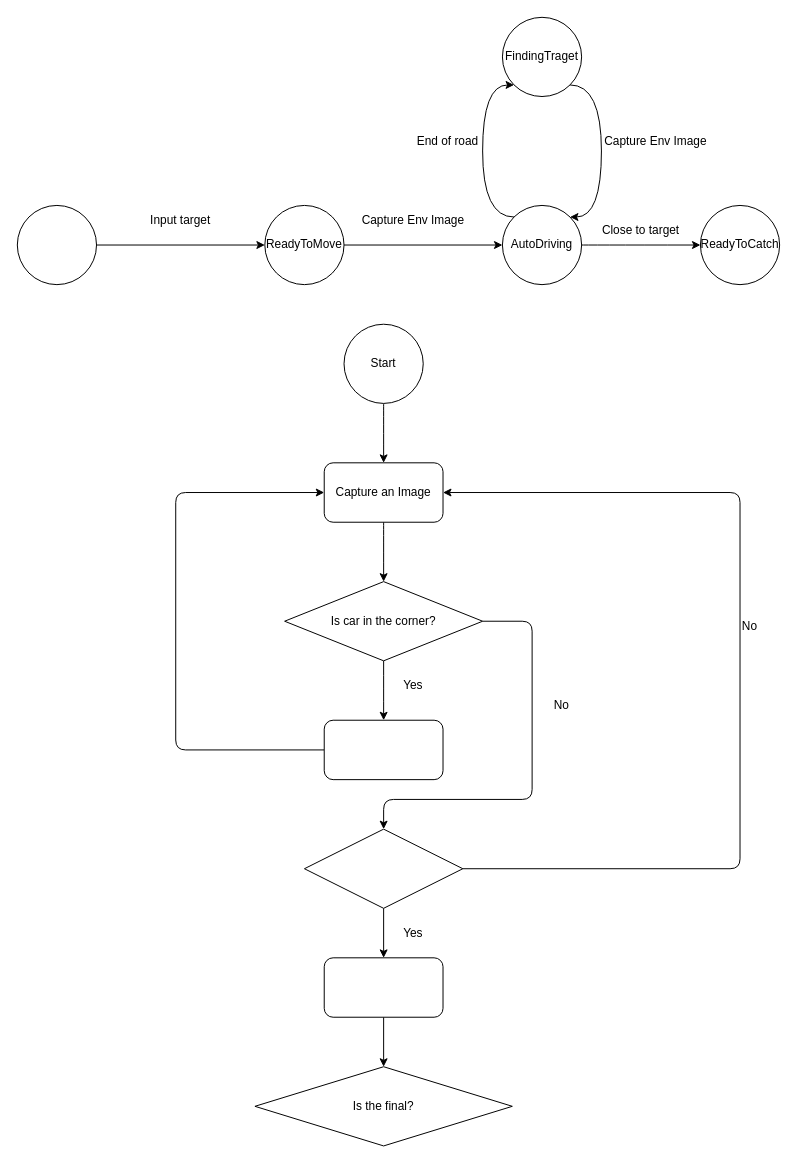
Image size: 797x1163. Some labels were removed from this diagram. The shapes that lost their labels are listed below. From the top down, each one's box as (x1, y1, x2, y2) in pixels, then its label:
(16, 204, 97, 285): Ready
(323, 719, 443, 780): Make a turn
(303, 828, 463, 908): Is car in the middle?
(323, 957, 443, 1017): Move Forward
